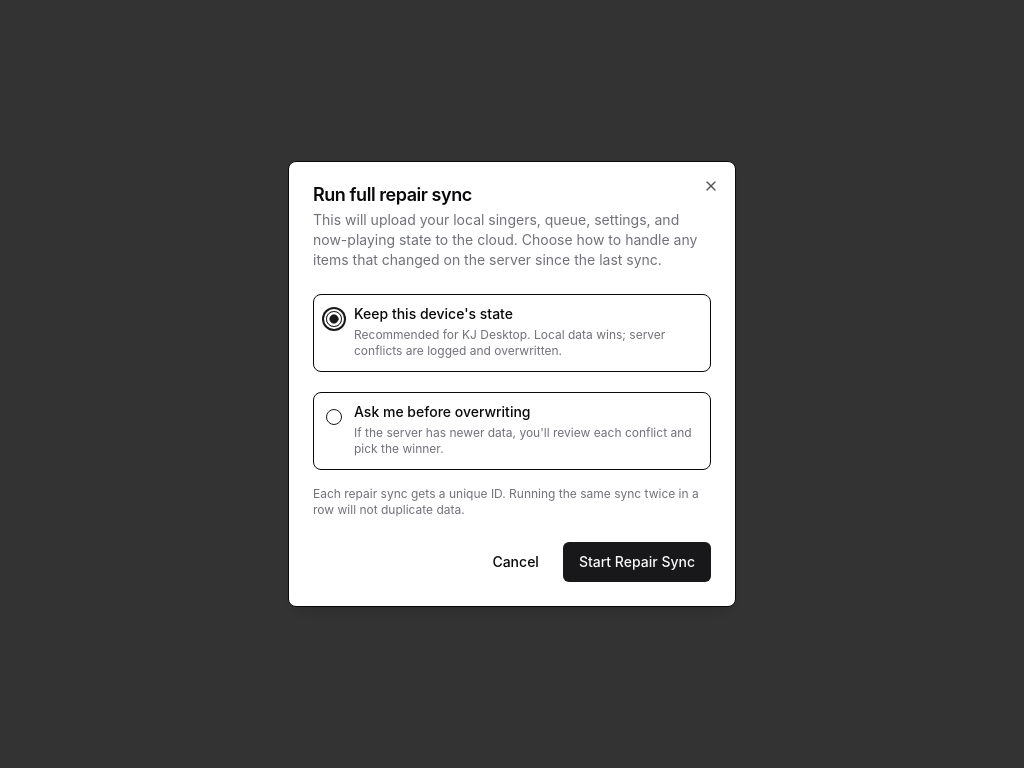
Test: RepairSyncDialog › opens to confirm view and can start a client_wins repair sync
The width and height of the screenshot is (1024, 768).
Check: the heading "Run full repair sync" is shown, box [313,184,472,205]
Click the button "Start Repair Sync" at (637, 562), box [563,542,711,582]
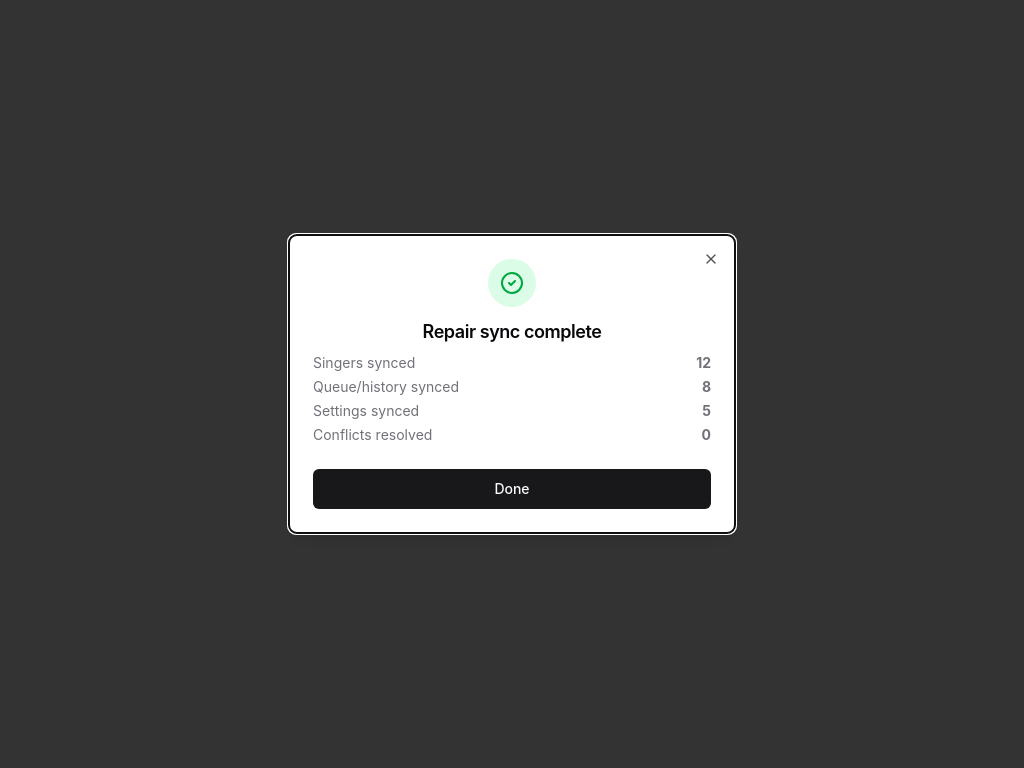
Check: the heading "Repair sync complete" is shown, box [423,323,602,341]
